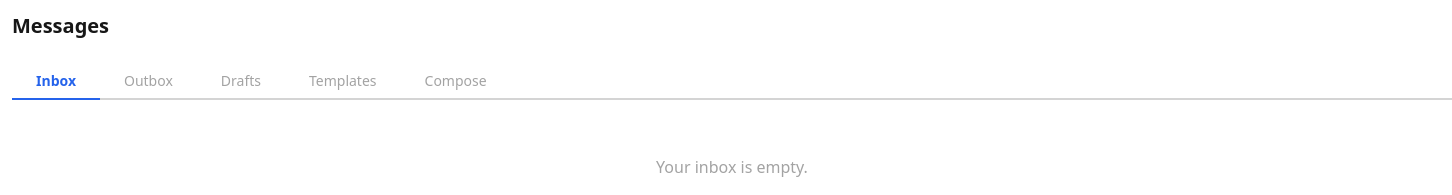
Test: MessagesPage drafts & templates (BE-7.2) › shows empty state when there are no drafts
Click the button "Drafts". click: x=241, y=82
box: left=197, top=63, right=285, bottom=100
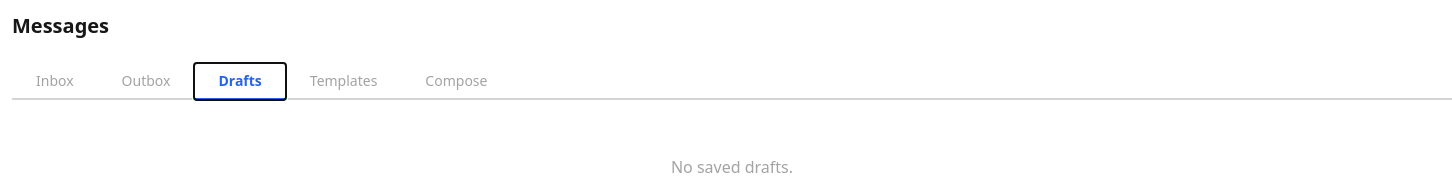
Expected: the text "No saved drafts." is shown, left=671, top=156, right=793, bottom=178
